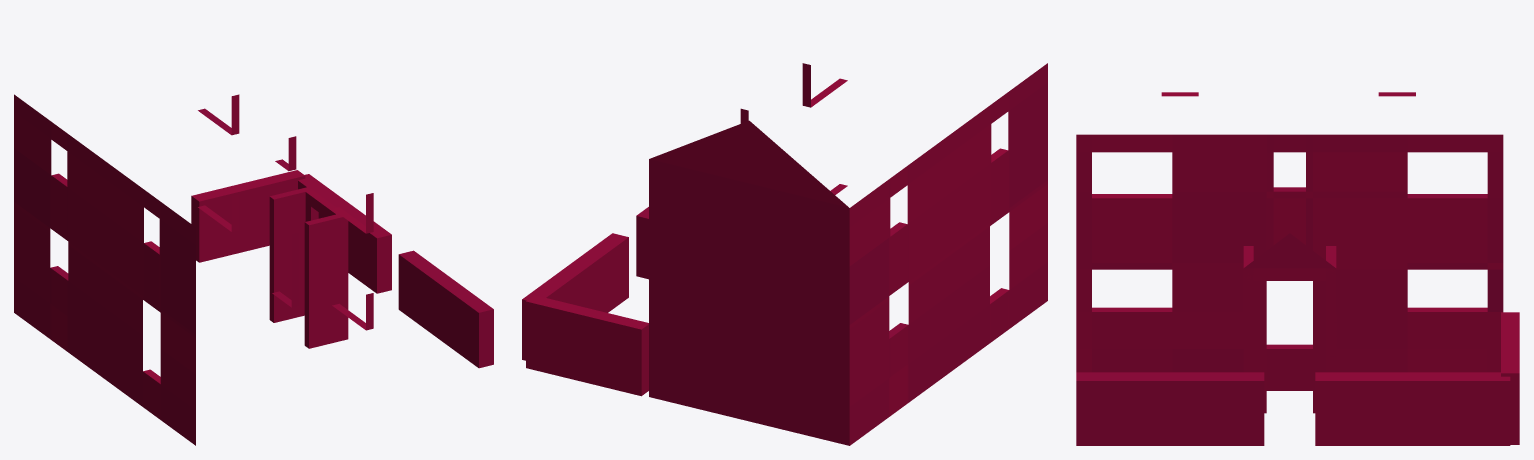
The model's file is SM_Bld_156_Masonry.glb.
3 renders of one model, left to right at view 1: azimuth 30°, elevation 25°; view 2: azimuth 150°, elevation 25°; view 3: azimuth 270°, elevation 25°, orthographic. The views are drawn at different scales.
Visible parts, largest first — view 1: SM_Bld_156_Masonry; view 2: SM_Bld_156_Masonry; view 3: SM_Bld_156_Masonry.
Part boxes in pixels (x1,y1,x2,y2): SM_Bld_156_Masonry: [14, 94, 493, 445]; SM_Bld_156_Masonry: [522, 63, 1047, 445]; SM_Bld_156_Masonry: [1076, 92, 1519, 445].
Size of the model in its own units: 8.7 by 7.72 by 9.56.
